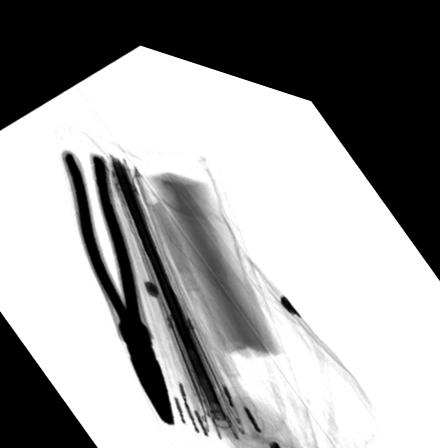Pliers: (61, 144, 174, 414)
